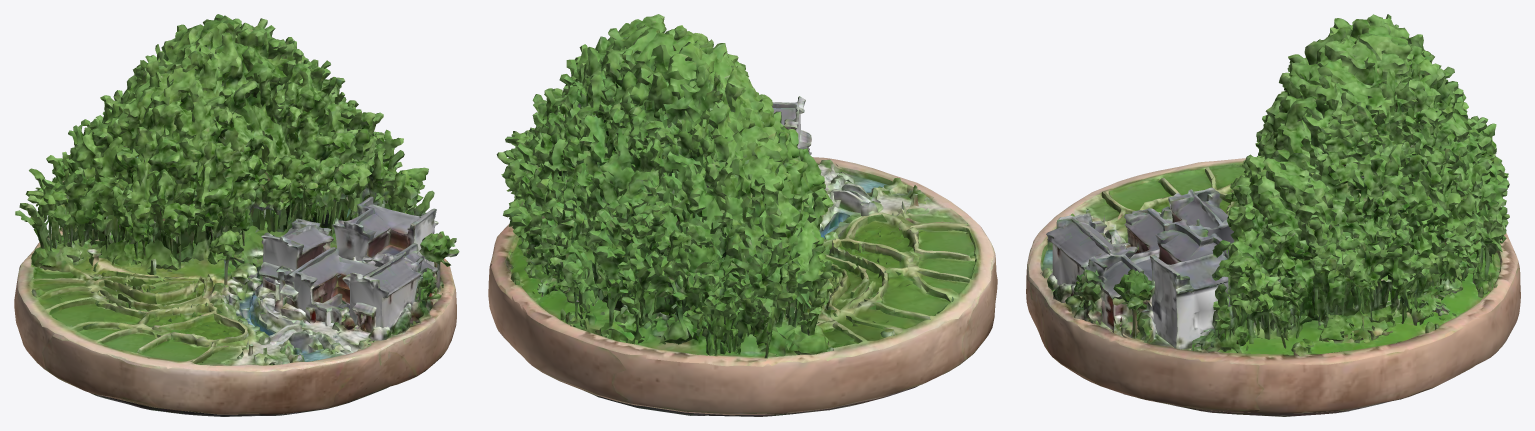
File: shan_restored.min.glb
3 renders of one model, left to right at view 1: azimuth 30°, elevation 25°; view 2: azimuth 150°, elevation 25°; view 3: azimuth 270°, elevation 25°, orthographic. The views are drawn at different scales.
Parts seen in each view (by area): view 1: geometry_0; view 2: geometry_0; view 3: geometry_0.
Boxes of the visible parts, <box> form: geometry_0: <box>14,14,459,416</box>; geometry_0: <box>488,14,997,416</box>; geometry_0: <box>1026,14,1520,416</box>.
Bounding box in the file's own units: 0.3 × 0.2057 × 0.2996.
Materials: 1 (1 with a texture image).
